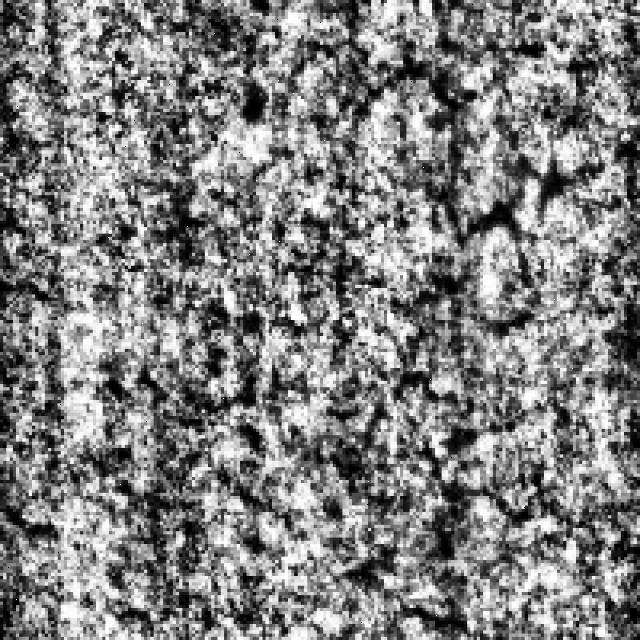Pitted_Surface: (118, 288, 557, 560), (339, 26, 579, 262)
